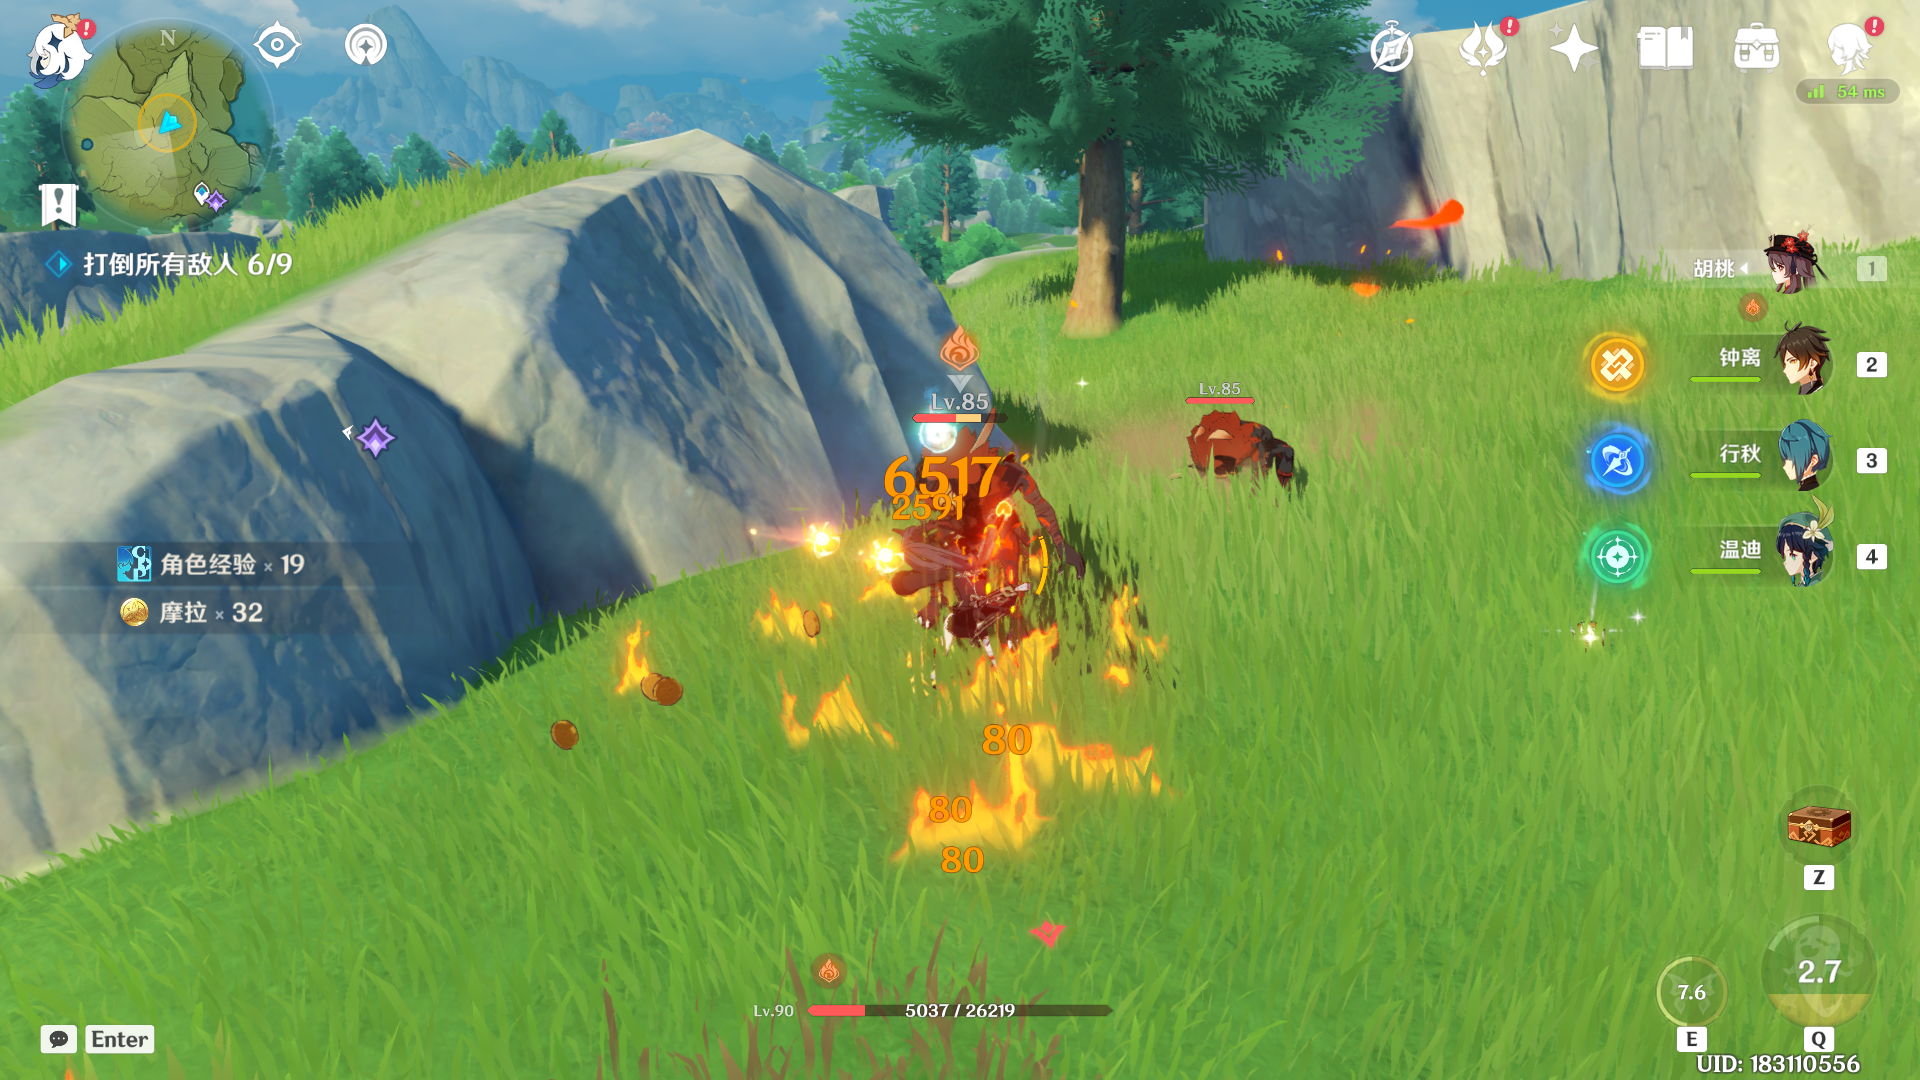hili: (857, 389, 1069, 632), (1166, 394, 1358, 566)
